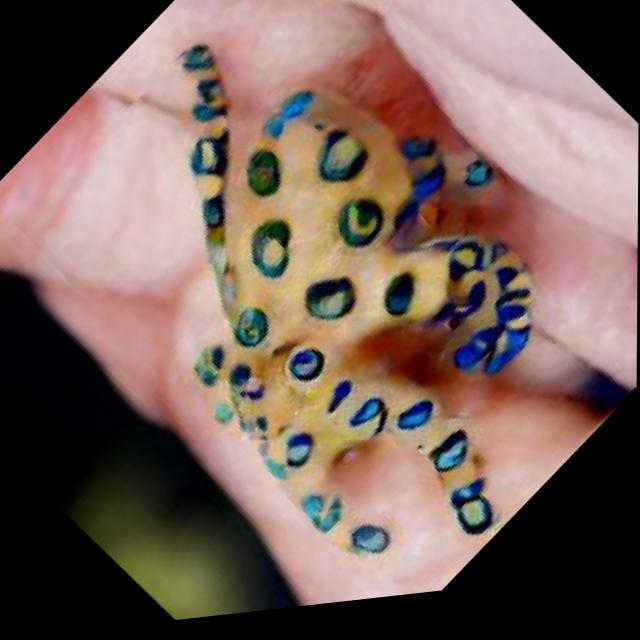blue_ringed_octopus: (0, 0, 640, 640)
